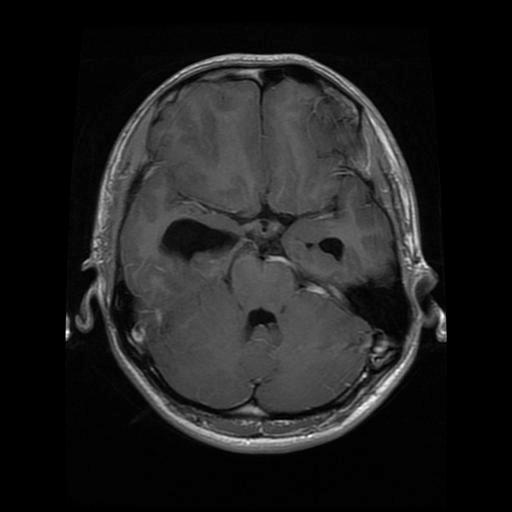Tumour-Glioma: (315, 88, 368, 168)
